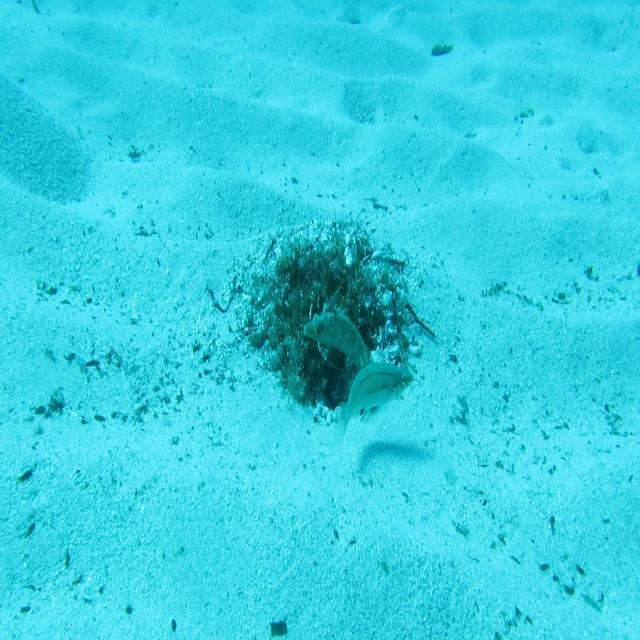BK_SW: (301, 304, 377, 423)
core_nest: (300, 261, 352, 293)
female: (333, 357, 415, 446)
nest: (232, 207, 430, 438)
vegetation: (429, 38, 454, 58)
